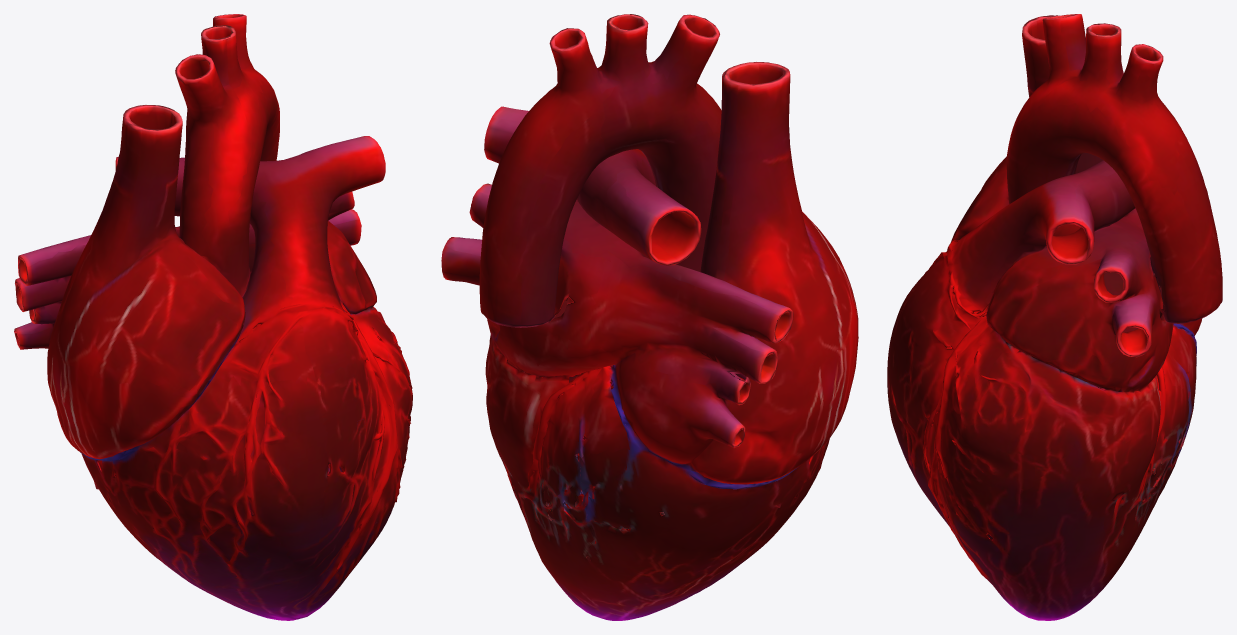
The model's file is heart3d_draco.glb.
The picture shows the model from 3 angles, left to right: view 1: azimuth 30°, elevation 25°; view 2: azimuth 150°, elevation 25°; view 3: azimuth 270°, elevation 25°; orthographic projection. The views are drawn at different scales.
Visible parts, largest first — view 1: body; view 2: body; view 3: body.
Part boxes in pixels (x1,y1,x2,y2): body: (14,14,412,620); body: (441,14,858,620); body: (887,14,1222,620).
Size of the model in its own units: 0.5934 by 0.9998 by 0.5353.
Materials: 2 (2 with a texture image).
